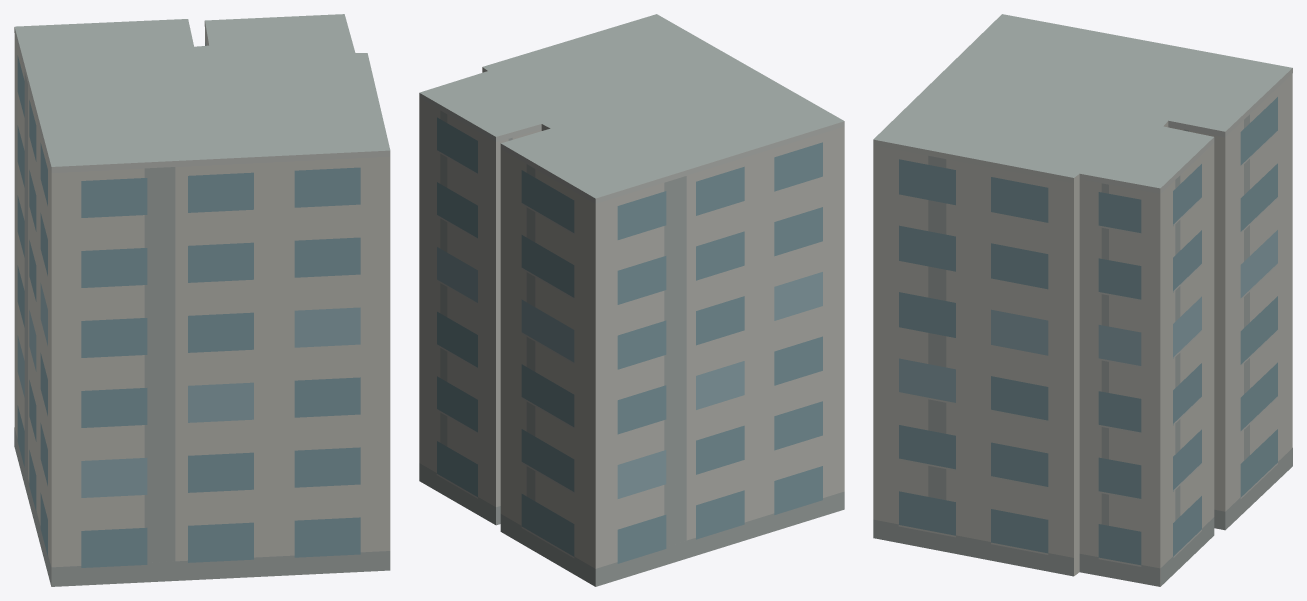
Rendered from survey-upis-32531712.glb.
3 renders of one model, left to right at view 1: azimuth 30°, elevation 25°; view 2: azimuth 150°, elevation 25°; view 3: azimuth 270°, elevation 25°, orthographic. The views are drawn at different scales.
Visible parts, largest first — view 1: survey-upis-32531712.tmp; view 2: survey-upis-32531712.tmp; view 3: survey-upis-32531712.tmp.
Part boxes in pixels (x1=…): survey-upis-32531712.tmp: x1=14, y1=14, x2=390, y2=586; survey-upis-32531712.tmp: x1=419, y1=14, x2=844, y2=586; survey-upis-32531712.tmp: x1=873, y1=14, x2=1292, y2=586.
Size of the model in its own units: 16.15 by 17.2 by 16.42.
